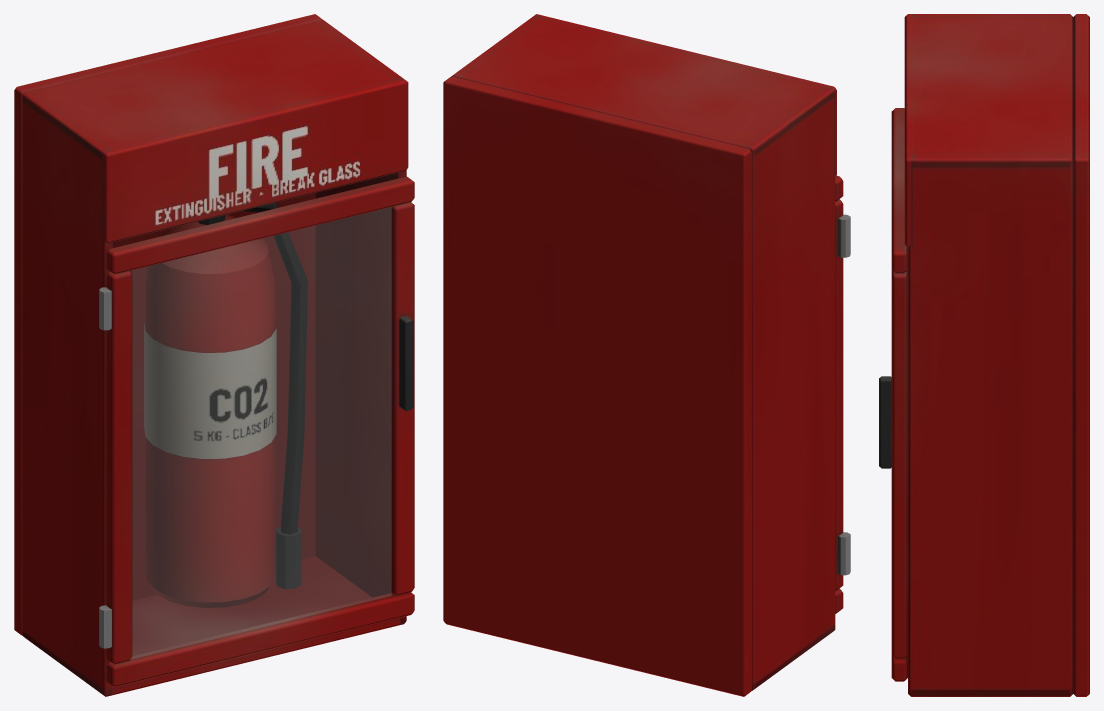
File: fire_ext_cabinet.glb
3 renders of one model, left to right at view 1: azimuth 30°, elevation 25°; view 2: azimuth 150°, elevation 25°; view 3: azimuth 270°, elevation 25°, orthographic.
Visible parts, largest first — view 1: fire_ext_cabinet; view 2: fire_ext_cabinet; view 3: fire_ext_cabinet.
Boxes of the visible parts, bbox=[...] form: fire_ext_cabinet: bbox=[14, 14, 414, 696]; fire_ext_cabinet: bbox=[443, 14, 850, 696]; fire_ext_cabinet: bbox=[879, 14, 1089, 696].
Bounding box in the file's own units: 0.432 × 0.72 × 0.255.
2 materials, 1 textured.
